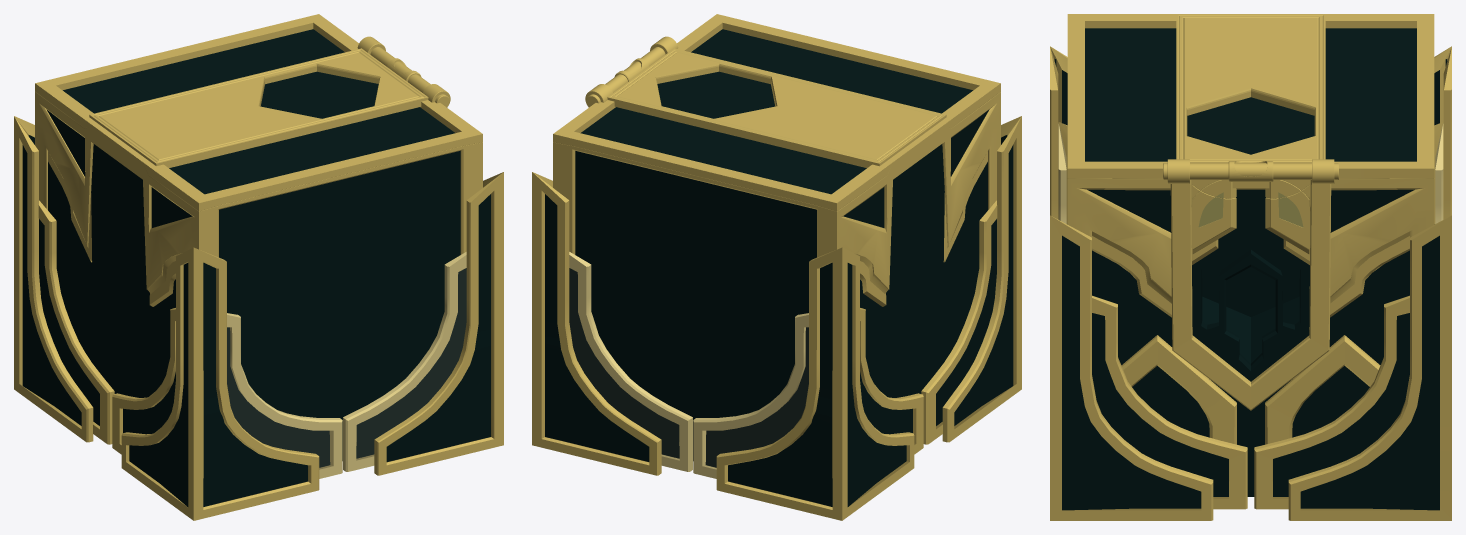
The model's file is hextech_chest.glb.
3 renders of one model, left to right at view 1: azimuth 30°, elevation 25°; view 2: azimuth 150°, elevation 25°; view 3: azimuth 270°, elevation 25°, orthographic. The views are drawn at different scales.
Parts seen in each view (by area): view 1: Cube_1, Plane.001_5, Plane.002_6, Cube.006_9, Cube.002_8, Plane.004_4, Cylinder_10; view 2: Cube_1, Plane.001_5, Plane.002_6, Cube.006_9, Cube.002_8, Plane.004_4, Cylinder_10; view 3: Cube_1, Plane.001_5, Plane.002_6, Cube.002_8, Cube.006_9, Plane_3, Plane.004_4, Plane.003_7, Cube.005_12, Cylinder_10, Cube.004_11.
Boxes of the visible parts, x1,y1,x2,y2 form: Cube_1: [46, 29, 460, 460]; Plane.001_5: [14, 116, 503, 520]; Plane.002_6: [38, 200, 466, 478]; Cube.006_9: [89, 48, 428, 167]; Cube.002_8: [35, 83, 482, 306]; Plane.004_4: [35, 14, 482, 202]; Cylinder_10: [357, 36, 450, 107]; Cube_1: [575, 29, 989, 460]; Plane.001_5: [532, 116, 1021, 520]; Plane.002_6: [569, 200, 997, 478]; Cube.006_9: [607, 48, 946, 167]; Cube.002_8: [553, 83, 1000, 306]; Plane.004_4: [553, 14, 1000, 202]; Cylinder_10: [585, 36, 678, 107]; Cube_1: [1085, 28, 1416, 496]; Plane.001_5: [1050, 46, 1451, 520]; Plane.002_6: [1058, 122, 1443, 509]; Cube.002_8: [1067, 14, 1434, 317]; Cube.006_9: [1176, 14, 1325, 162]; Plane_3: [1170, 180, 1331, 410]; Plane.004_4: [1068, 14, 1433, 168]; Plane.003_7: [1121, 335, 1380, 444]; Cube.005_12: [1192, 180, 1309, 253]; Cylinder_10: [1163, 159, 1338, 183]; Cube.004_11: [1191, 202, 1310, 264].
Size of what is drawn, in the model's own units: 2.28 by 2.24 by 2.29.
